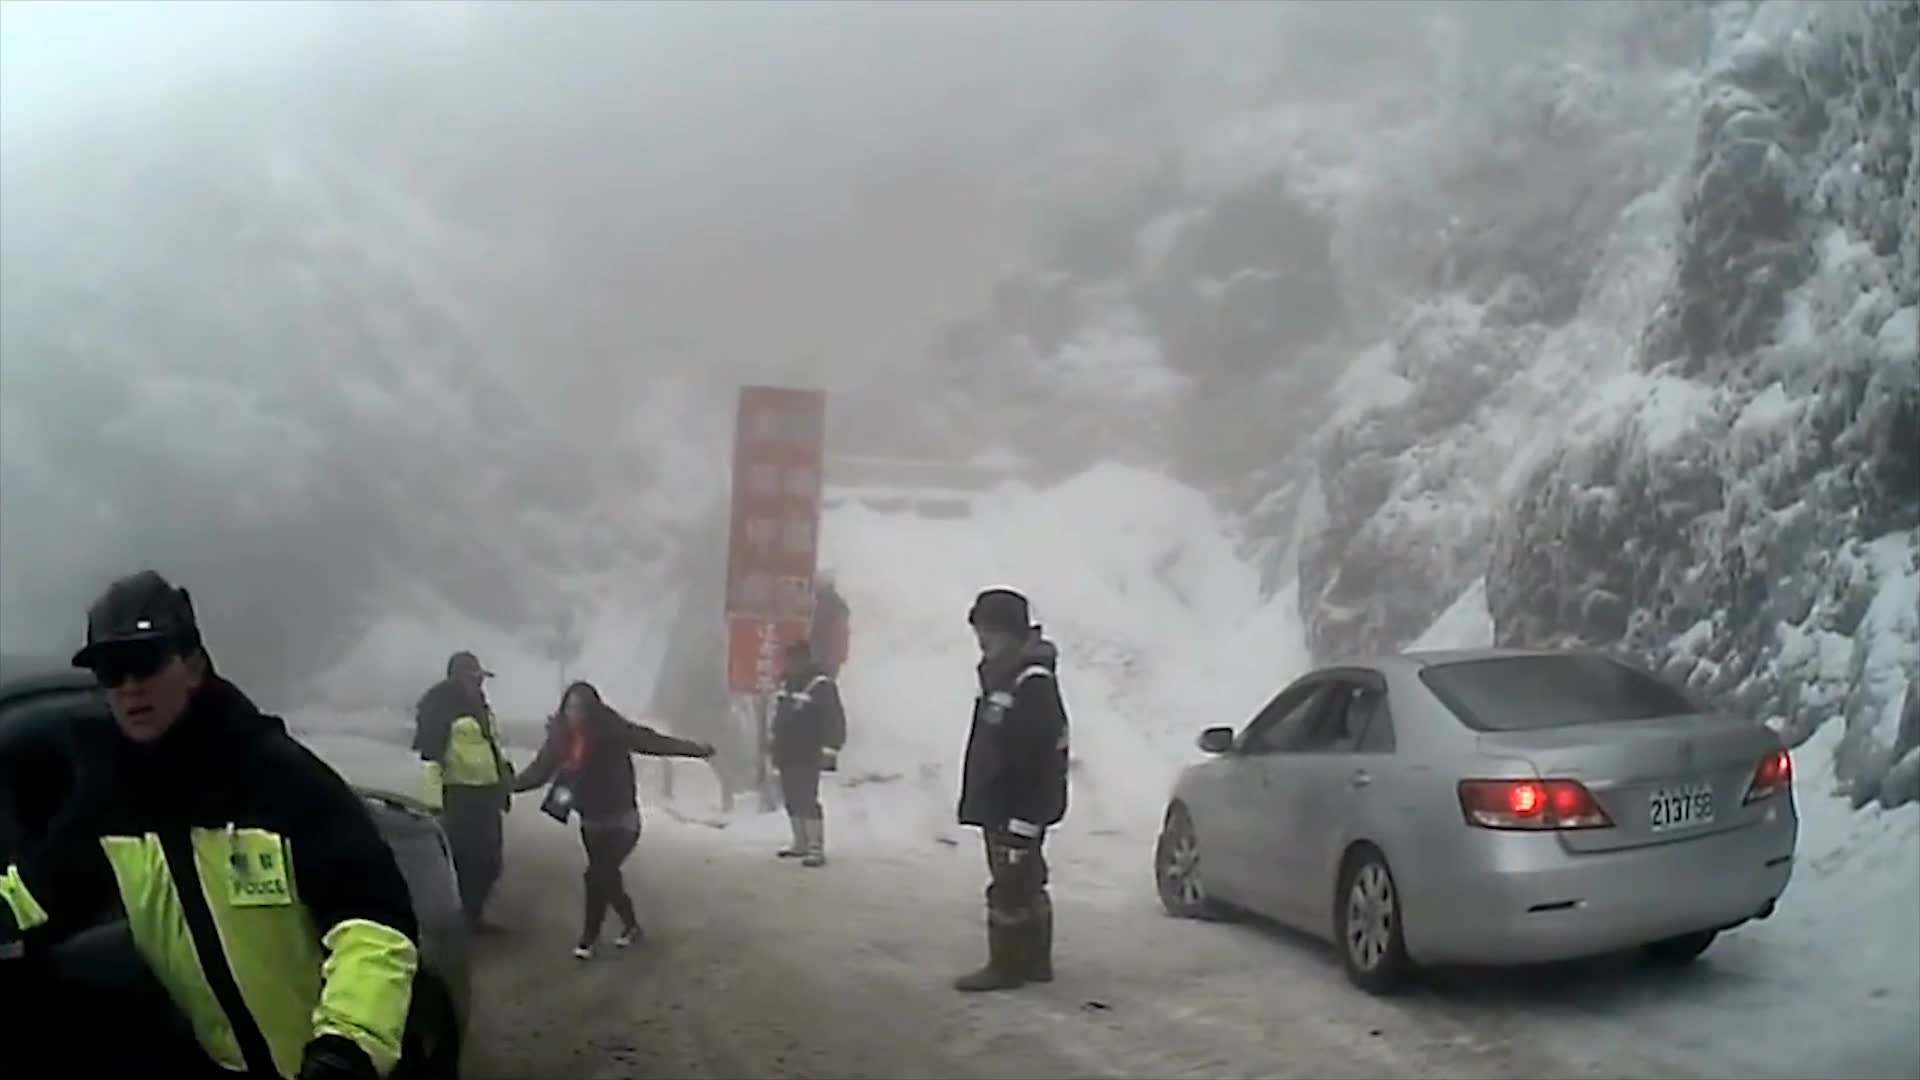pedestrian: (2, 570, 421, 1080), (509, 677, 706, 955), (938, 586, 1069, 993), (407, 650, 520, 935), (764, 638, 847, 866), (794, 564, 856, 750)
vehicle: (1150, 646, 1799, 995), (0, 658, 470, 1079)
